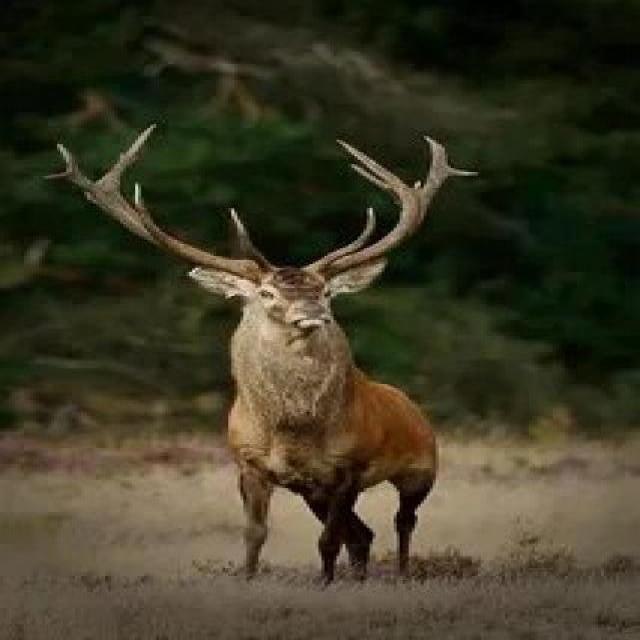deer: (6, 109, 640, 614)
